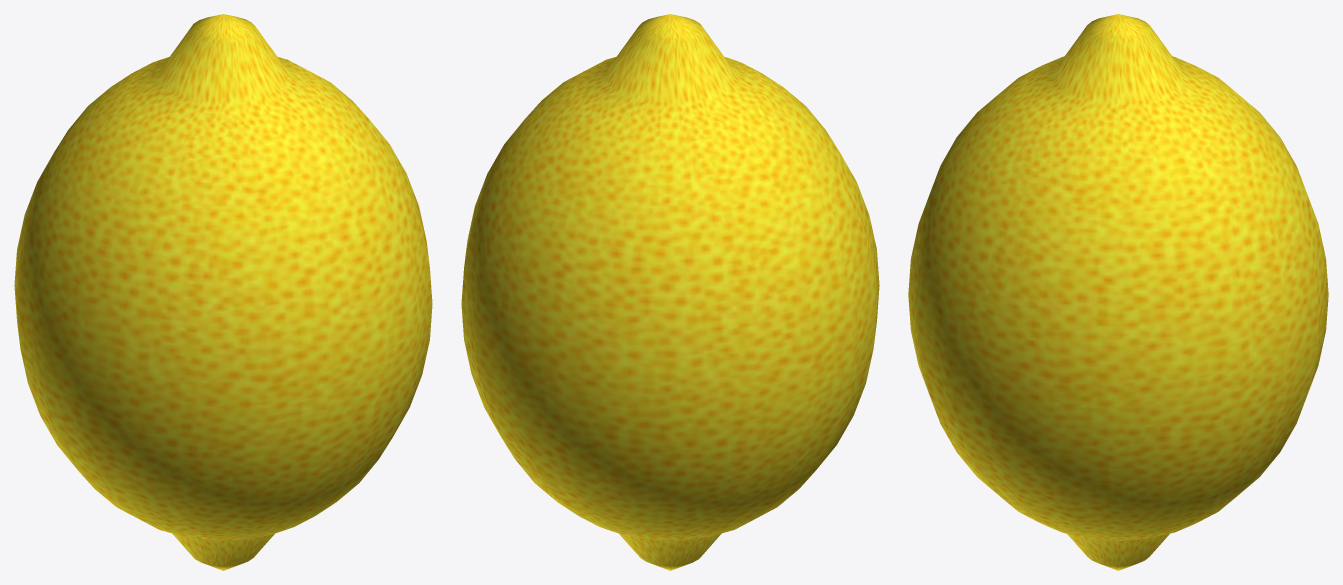
File: lemon.obj
3 renders of one model, left to right at view 1: azimuth 30°, elevation 25°; view 2: azimuth 150°, elevation 25°; view 3: azimuth 270°, elevation 25°, orthographic.
Parts seen in each view (by area): view 1: pSphere1; view 2: pSphere1; view 3: pSphere1.
Boxes of the visible parts, x1,y1,x2,y2 form: pSphere1: [14, 14, 432, 570]; pSphere1: [461, 14, 879, 570]; pSphere1: [908, 14, 1328, 570].
Bounding box in the file's own units: 2 × 2.92 × 2.
